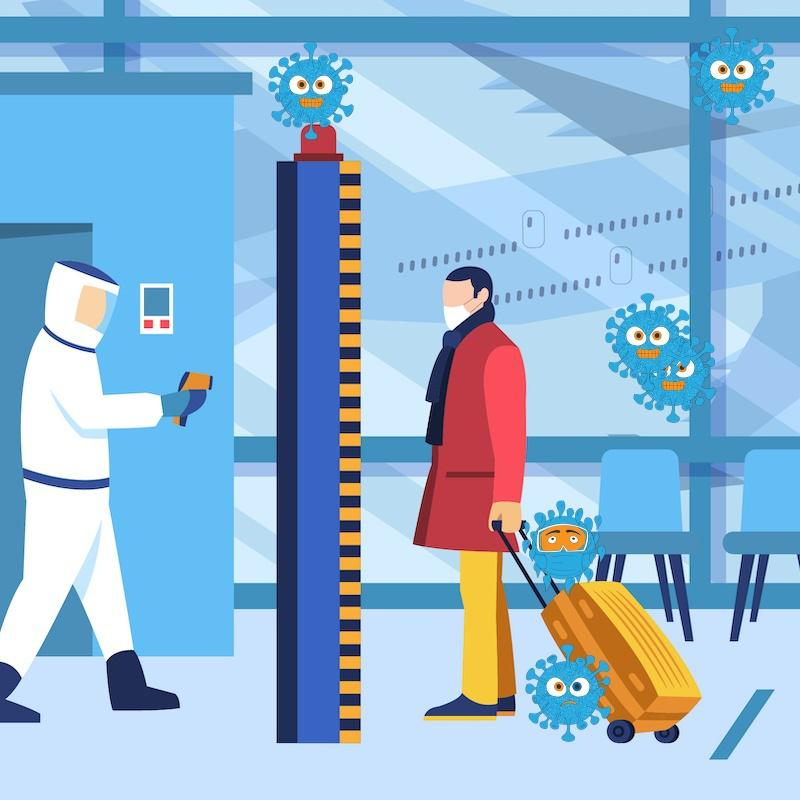corona1: (677, 18, 783, 134), (262, 45, 356, 141), (597, 295, 692, 383), (634, 336, 719, 422)
corona2: (517, 643, 611, 743)
doctor: (519, 508, 610, 592)
